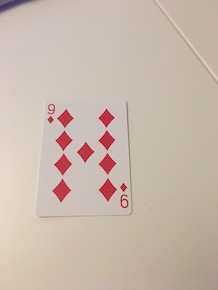NineOfDiamonds: (35, 93, 135, 222)
